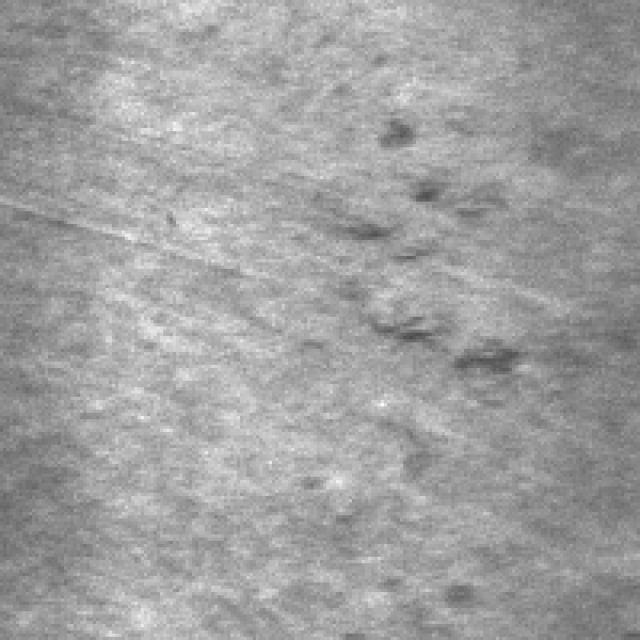rolled-in_scale: (352, 96, 538, 381)
